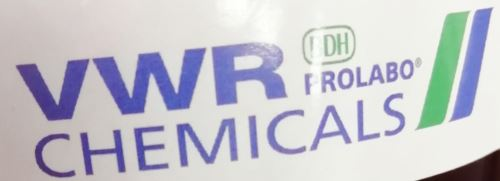VWR: (11, 5, 495, 180)
